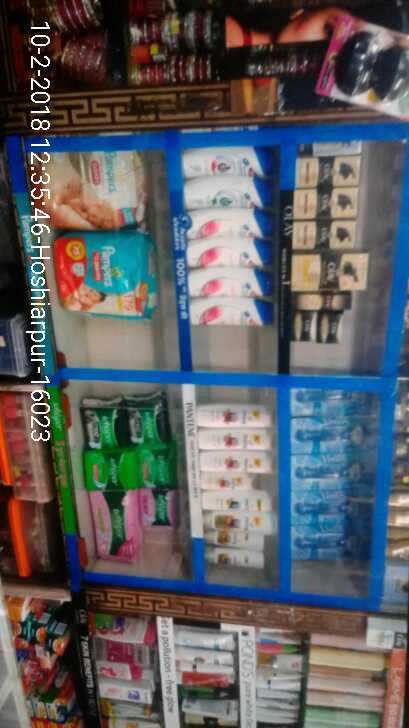venus: (292, 519, 373, 555), (291, 452, 373, 487), (290, 420, 373, 452), (291, 487, 373, 519), (290, 388, 371, 420)
